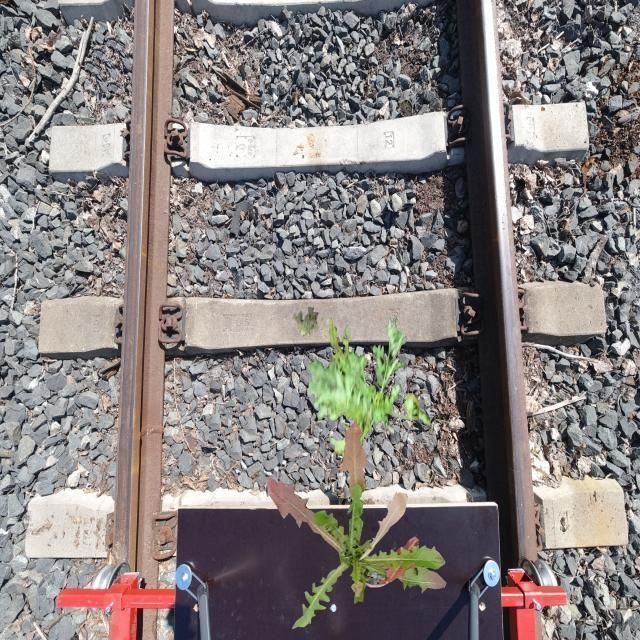Plant: (267, 420, 447, 628), (306, 315, 431, 462), (293, 307, 319, 339)
